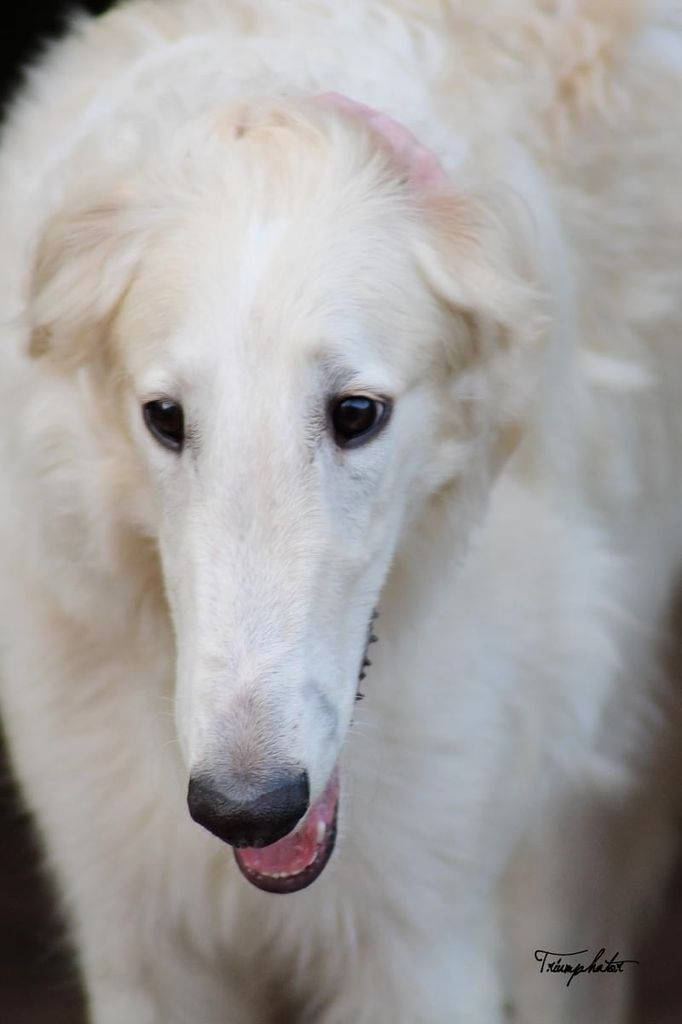borzoi: (27, 44, 577, 1017)
